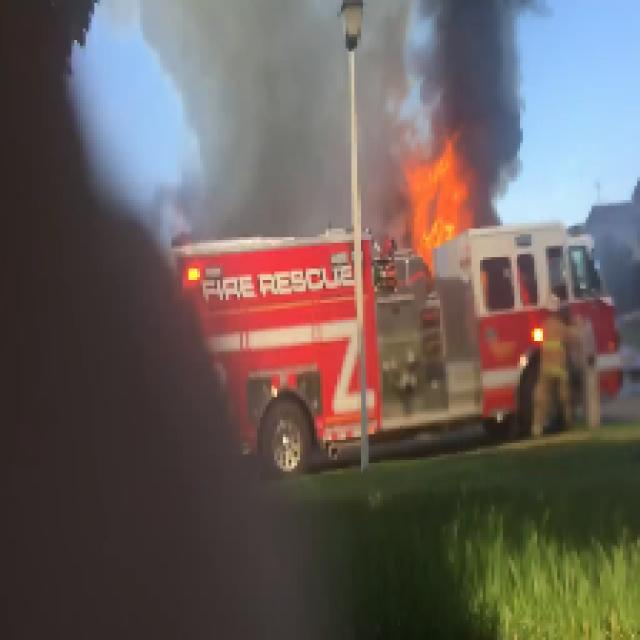fire: (404, 154, 458, 247)
smoke: (172, 11, 387, 236), (459, 12, 511, 218)
